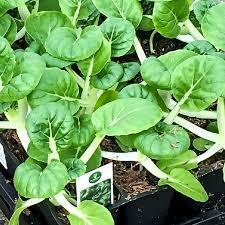Healthy-Pechay: (10, 2, 225, 162)
